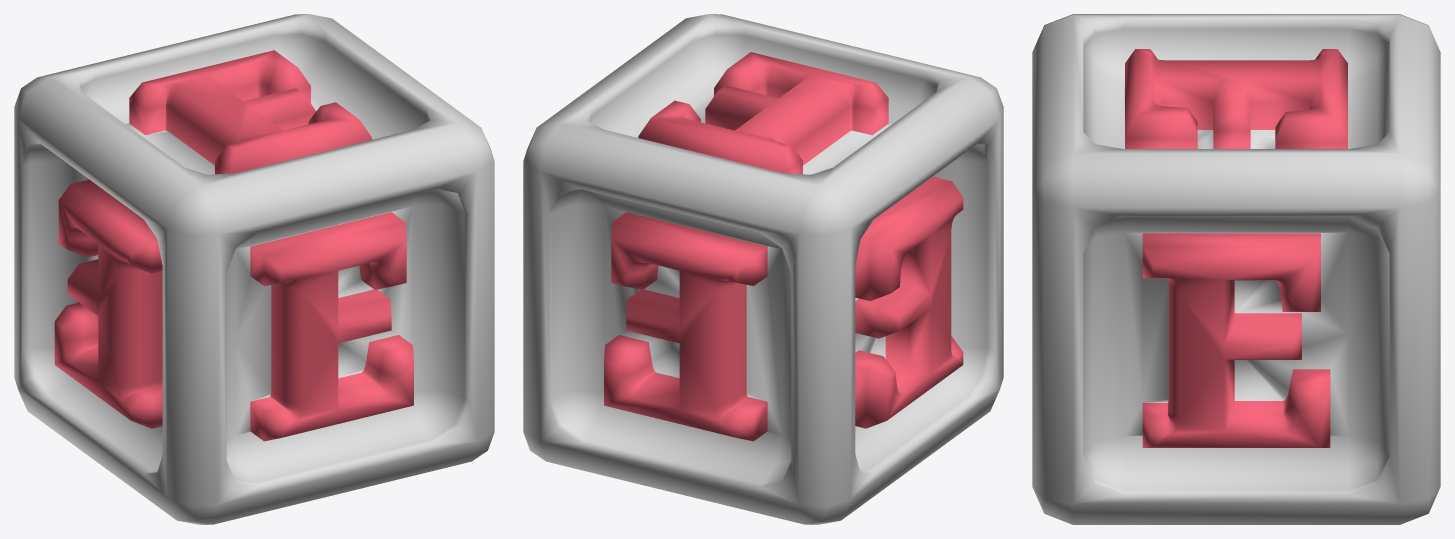
3 views of the same model, side by side, from view 1: azimuth 30°, elevation 25°; view 2: azimuth 150°, elevation 25°; view 3: azimuth 270°, elevation 25° (orthographic). The views are drawn at different scales.
Parts seen in each view (by area): view 1: obj_0; view 2: obj_0; view 3: obj_0.
Boxes of the visible parts, <box> form: obj_0: <box>14,14,494,524</box>; obj_0: <box>523,14,1003,524</box>; obj_0: <box>1032,14,1440,524</box>.
Size of the model in its own units: 100 by 100 by 100.
